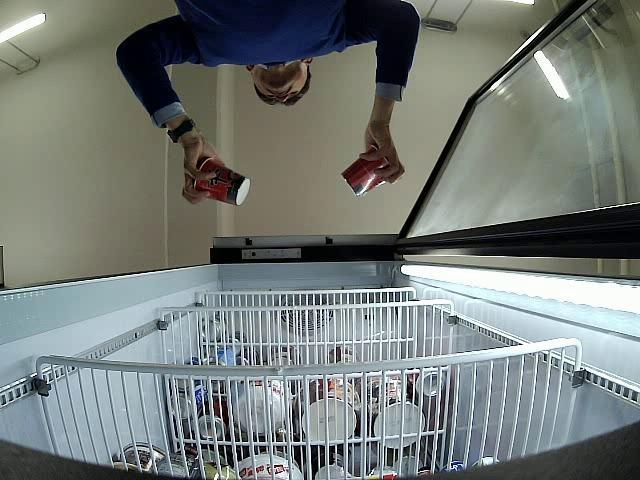02_shinRamen_S: (194, 158, 251, 206), (340, 144, 390, 197)
